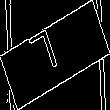L_SE: (37, 26, 73, 84)
